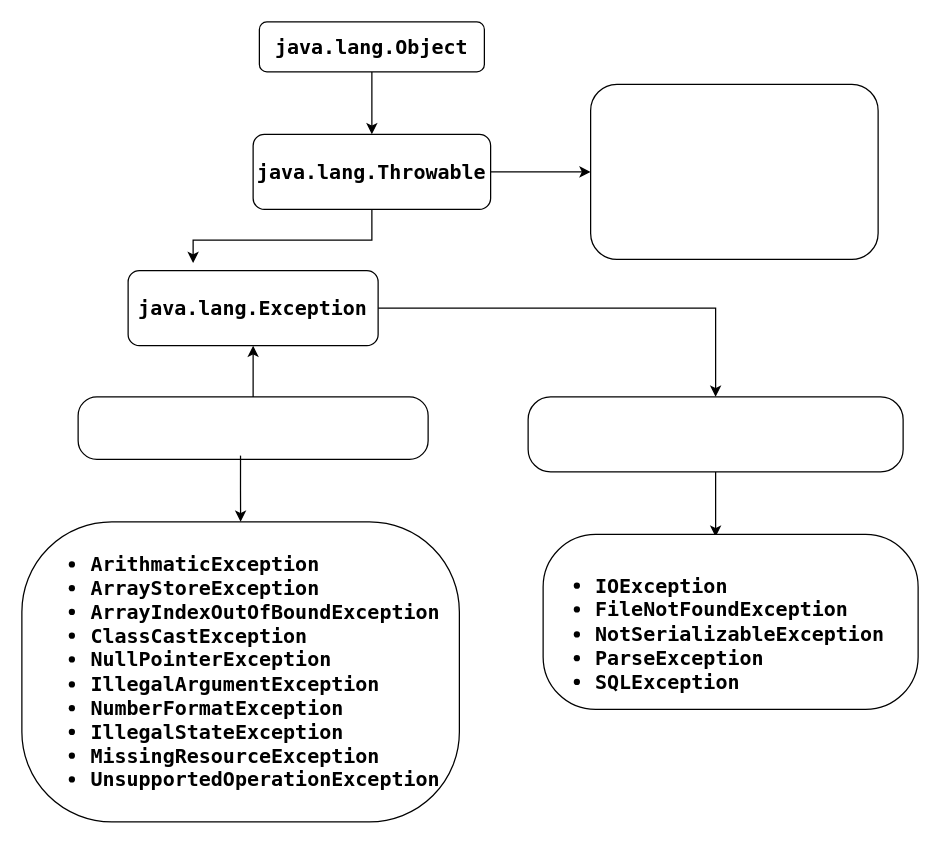
Some shapes in this 940 by 844 pixel diagram are drawn without their labels. The box of each missing label's shape, as (x1, y1, x2, y2) in pixels:
Checked Exception: (527, 396, 903, 472)
java.lang.Error StackOverflowError VirtualMachineError OutOfMemoryError: (589, 83, 878, 259)
java.lang.RuntimeException unchecked: (77, 396, 428, 459)
